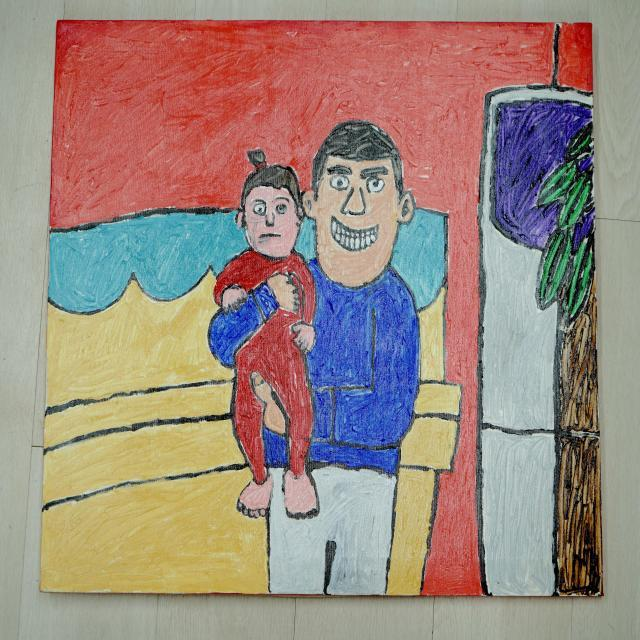painting: (41, 21, 602, 595)
